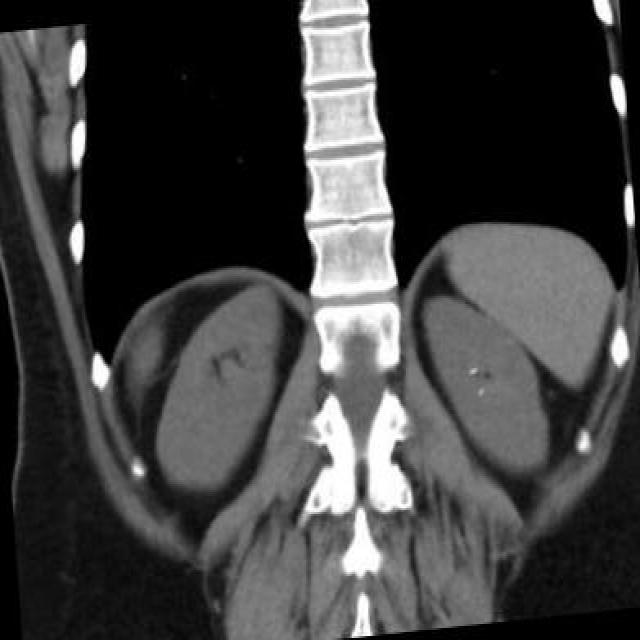Tas_Var: (466, 365, 478, 379), (476, 387, 484, 397)
